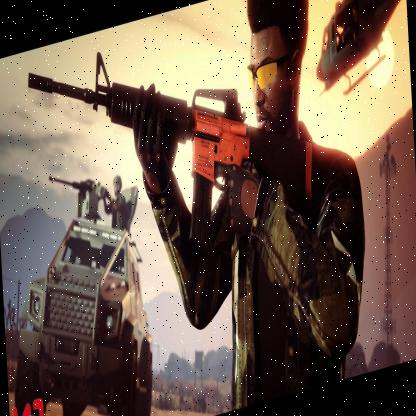rifle: (25, 0, 314, 310)
